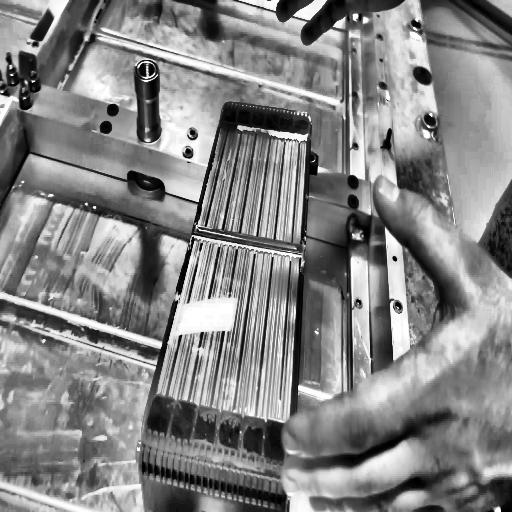battery_module: (139, 101, 314, 477)
